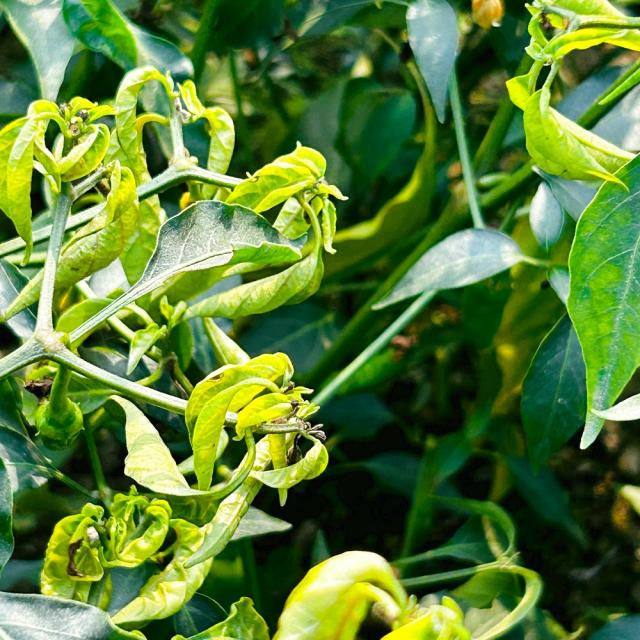Chilli_Leaf_Curl: (1, 0, 638, 638), (1, 62, 346, 636), (56, 197, 308, 350), (504, 0, 638, 190), (182, 351, 328, 505), (564, 152, 639, 450), (370, 226, 526, 312), (404, 0, 459, 124)
